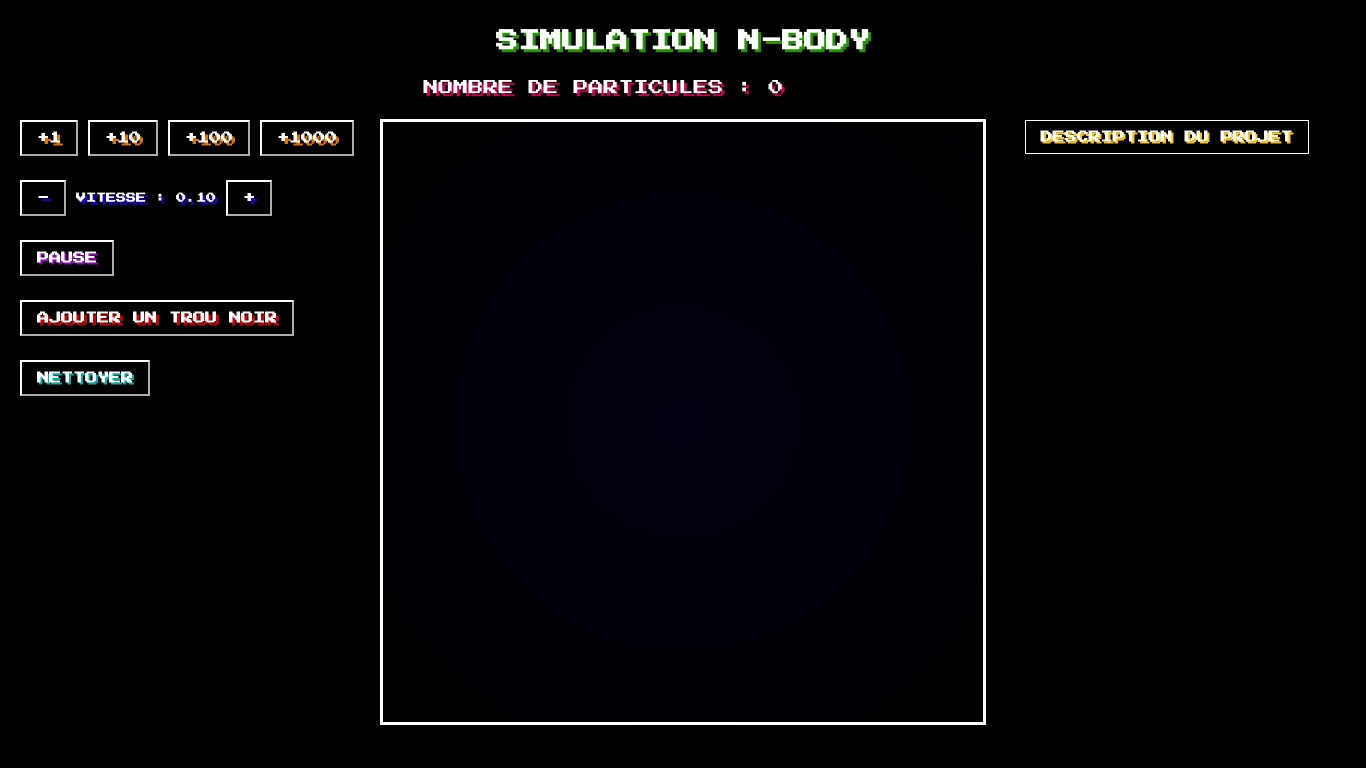
Scenario: SimulationCanvas2D › affiche et masque la description du projet
Step 1. Click the button "DESCRIPTION DU PROJET" → (1166, 137), box [1024,120,1308,154]
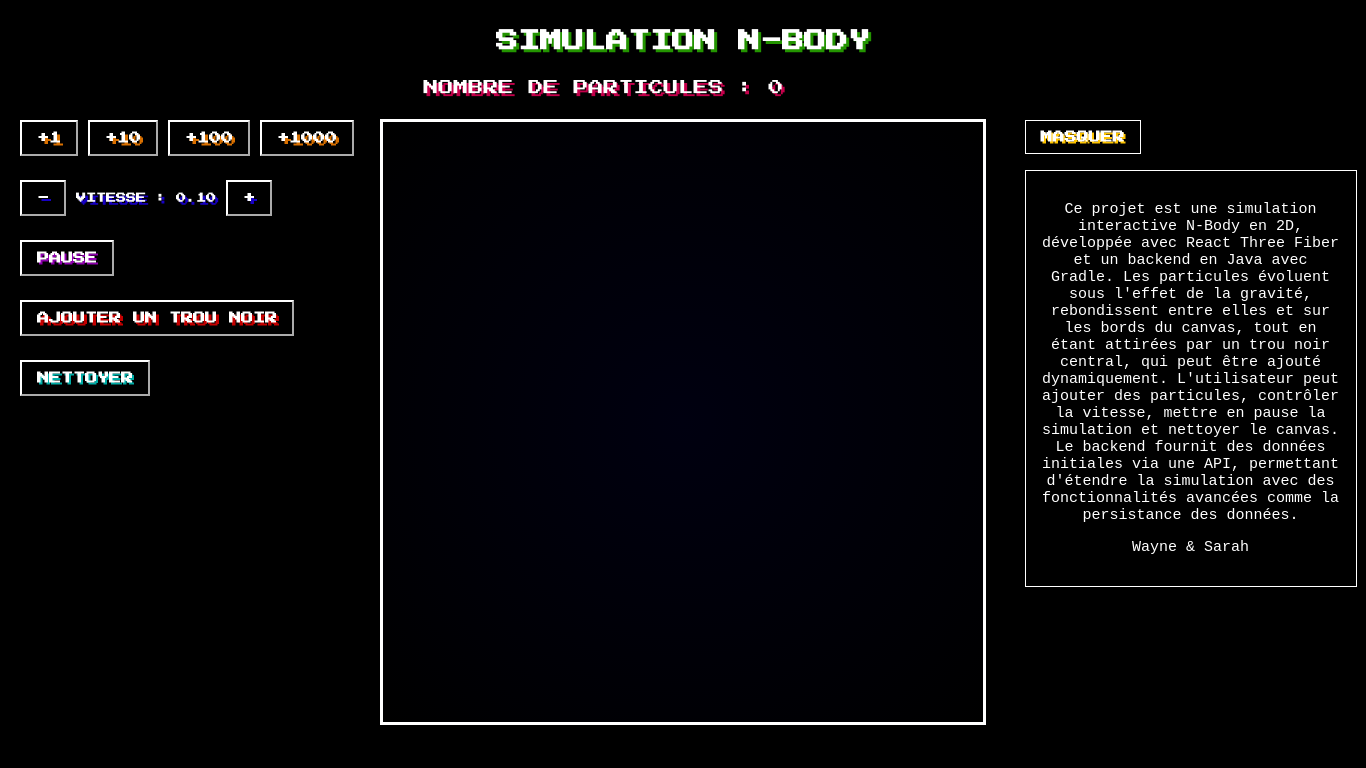
Expected: the text "Ce projet est une simulation interactive N-Body en 2D" is shown, [1042,201,1339,524]
Step 2. Click the button "DESCRIPTION DU PROJET" → (1082, 137), box [1024,120,1140,154]
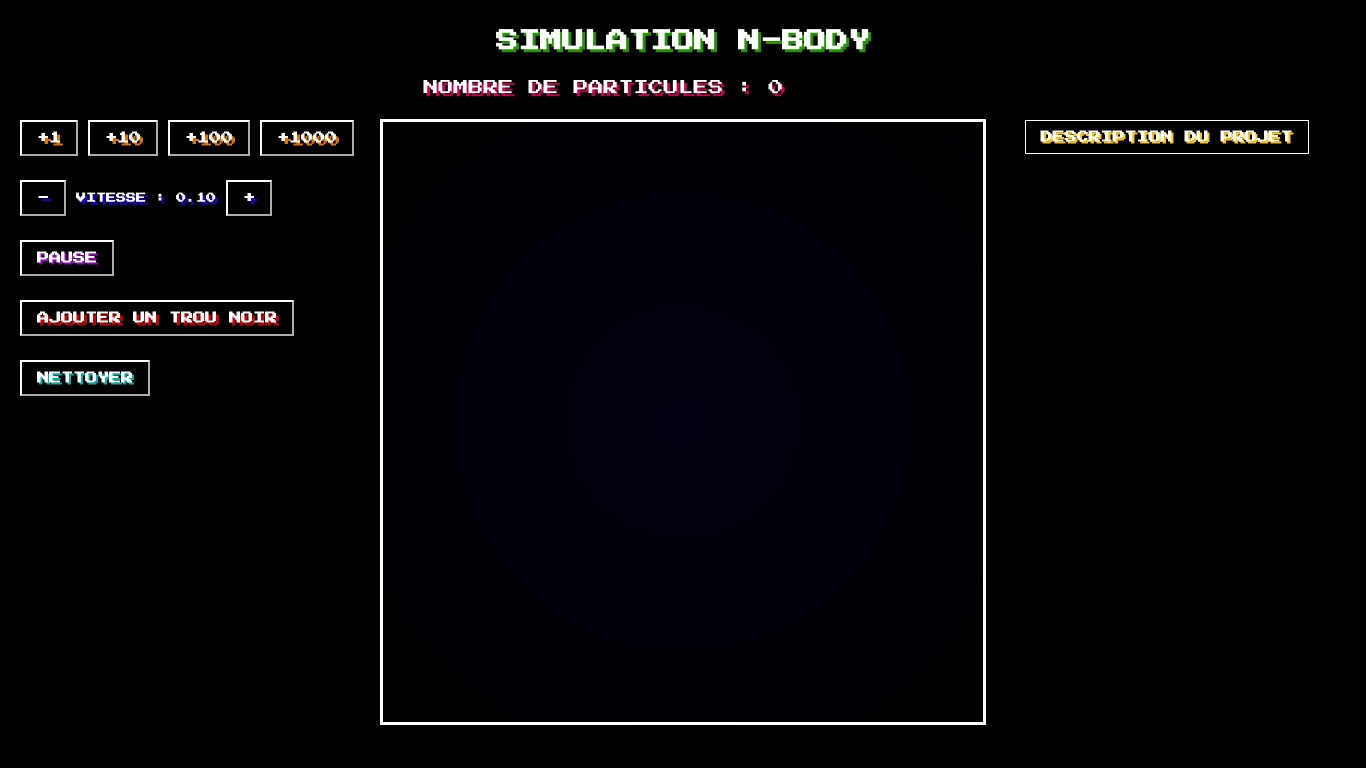
Expected: the text "Ce projet est une simulation interactive N-Body en 2D" is gone
